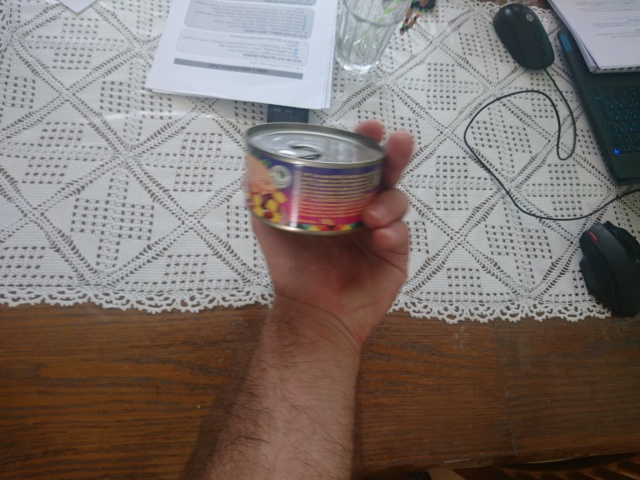Giana Tuna Salad Mexico 185g: (240, 119, 391, 238)
